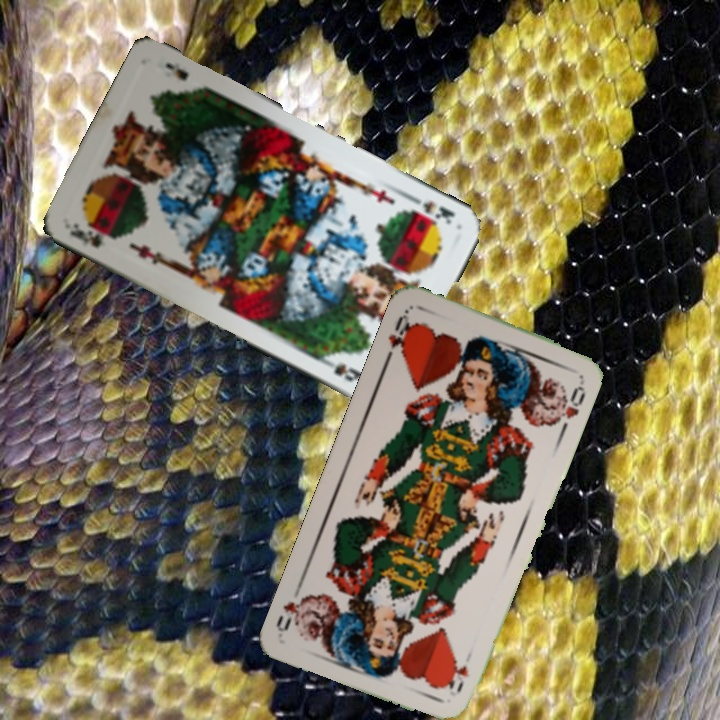HO: (381, 307, 418, 364), (445, 661, 472, 696)
SK: (65, 219, 118, 251), (408, 197, 458, 228)
